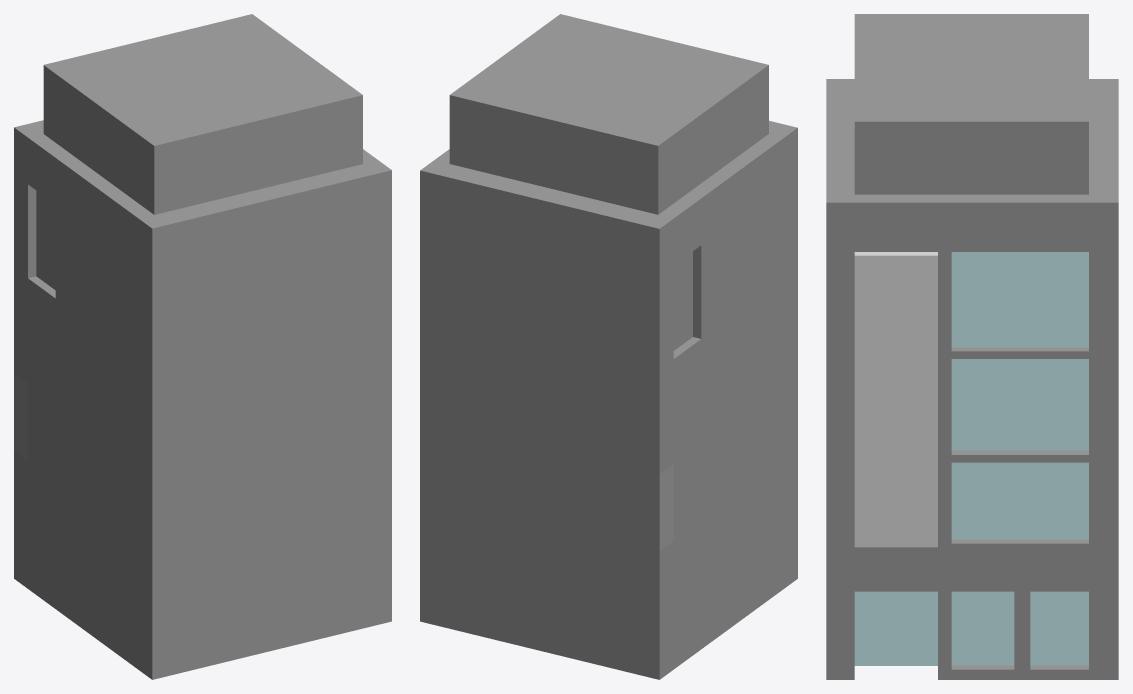
File: Haneji_Bill5.fbx
3 renders of one model, left to right at view 1: azimuth 30°, elevation 25°; view 2: azimuth 150°, elevation 25°; view 3: azimuth 270°, elevation 25°, orthographic. The views are drawn at different scales.
Visible parts, largest first — view 1: MiniBill; view 2: MiniBill; view 3: MiniBill.
Boxes of the visible parts, <box> form: MiniBill: <box>14,14,391,679</box>; MiniBill: <box>420,14,797,679</box>; MiniBill: <box>826,14,1118,679</box>.
Size of the model in its own units: 1029 by 2075 by 1000.
